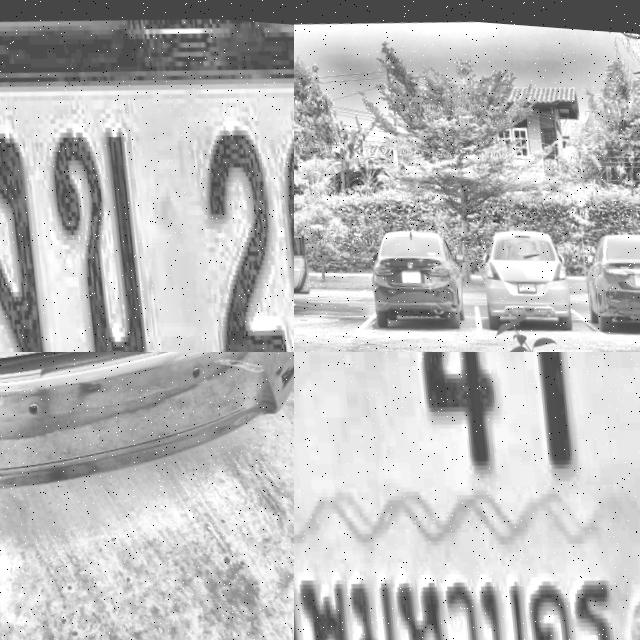license-plate: (0, 0, 294, 352), (294, 352, 640, 640), (400, 264, 419, 282), (515, 274, 536, 289), (633, 264, 640, 279)
